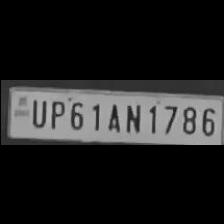1: (142, 100, 160, 134), (87, 98, 103, 132)
6: (64, 97, 84, 130), (198, 102, 216, 136)
7: (157, 101, 177, 135)
8: (178, 101, 198, 135)
A: (102, 98, 120, 132)
N: (120, 99, 142, 133)
P: (45, 97, 63, 129)
U: (27, 96, 46, 127)
